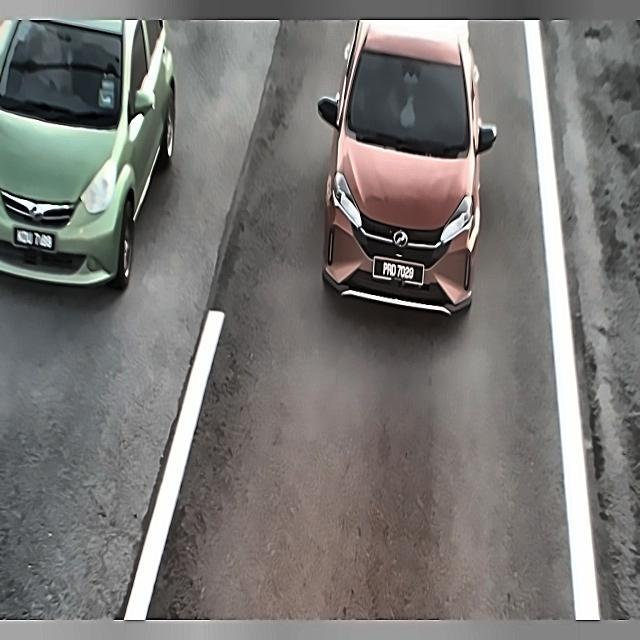car: (11, 221, 57, 262), (376, 256, 424, 295)
